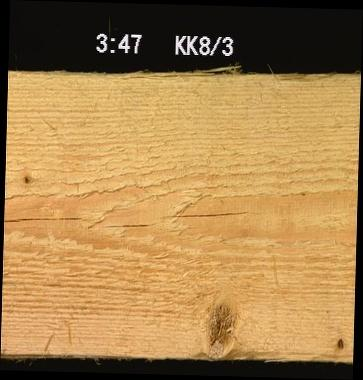dry_knot: (333, 334, 346, 349)
small_knot: (20, 172, 32, 186)
sound_knot: (199, 298, 236, 354)
split: (52, 64, 251, 77), (3, 214, 83, 225), (157, 210, 247, 219), (102, 217, 157, 228)
wave: (184, 350, 352, 363)
